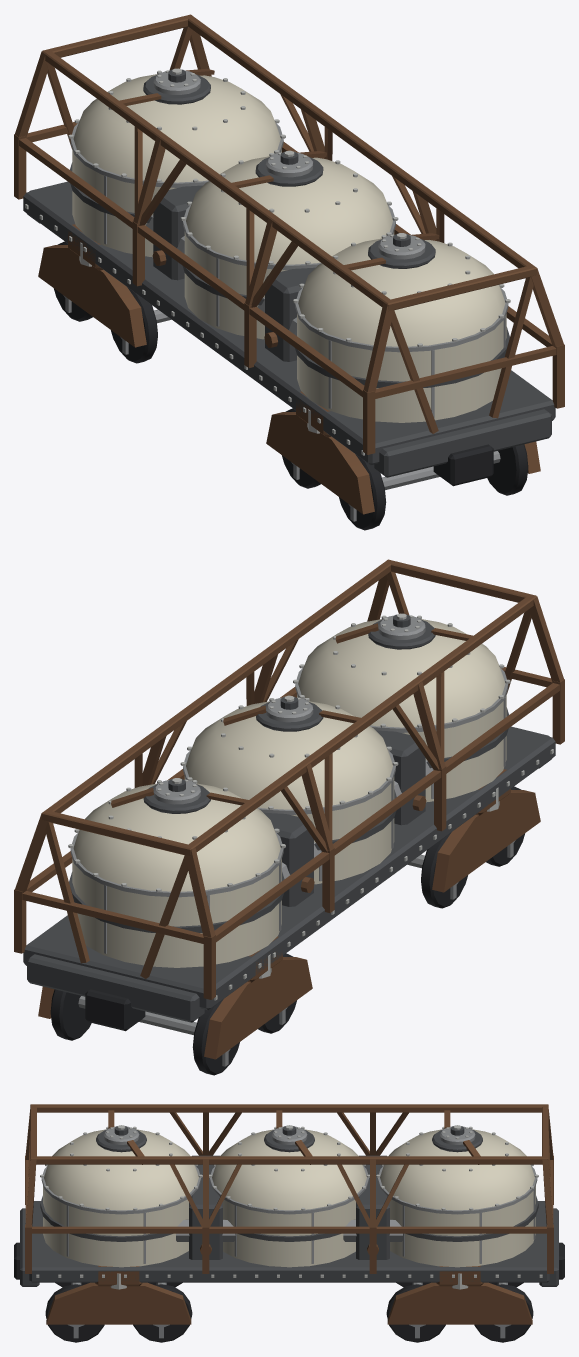
The model's file is fluid-wagon.glb.
The picture shows the model from 3 angles, top to bottom: view 1: azimuth 30°, elevation 25°; view 2: azimuth 150°, elevation 25°; view 3: azimuth 270°, elevation 25°; orthographic projection. The views are drawn at different scales.
Parts seen in each view (by area): view 1: body, anim_wheel_rail, anim_wheel_rail.002; view 2: body, anim_wheel_rail.003, anim_wheel_rail.001; view 3: body, anim_wheel_rail.001, anim_wheel_rail.002, anim_wheel_rail, anim_wheel_rail.003.
Boxes of the visible parts, x1,y1,x2,y2 form: body: (14,14,564,514); anim_wheel_rail: (339,444,528,530); anim_wheel_rail.002: (111,287,171,363); body: (14,559,564,1059); anim_wheel_rail.003: (50,989,239,1075); anim_wheel_rail.001: (407,832,467,908); body: (14,1104,564,1324); anim_wheel_rail.001: (133,1282,192,1342); anim_wheel_rail.002: (386,1282,445,1342); anim_wheel_rail: (45,1282,104,1342); anim_wheel_rail.003: (474,1282,533,1342).
Size of the model in its own units: 2 by 2.44 by 6.46.
